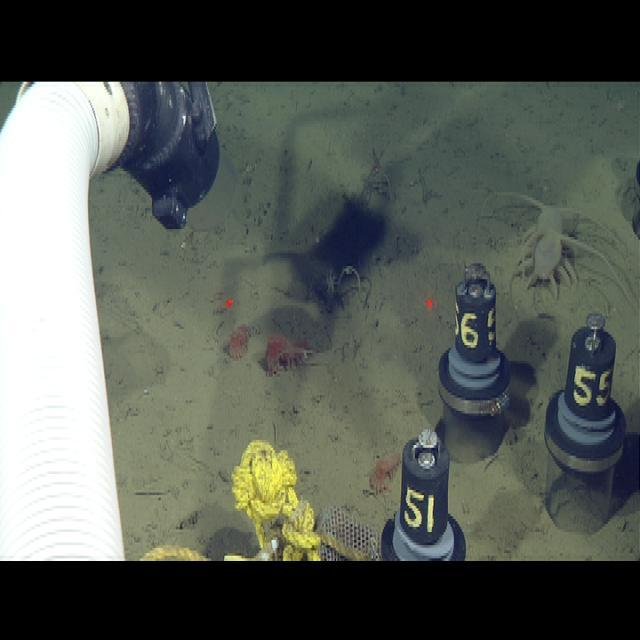Brittle Star: (334, 259, 364, 299)
Not Brittle Star: (31, 79, 244, 248), (476, 175, 628, 316), (262, 328, 308, 377), (366, 446, 401, 498), (225, 319, 252, 362)
